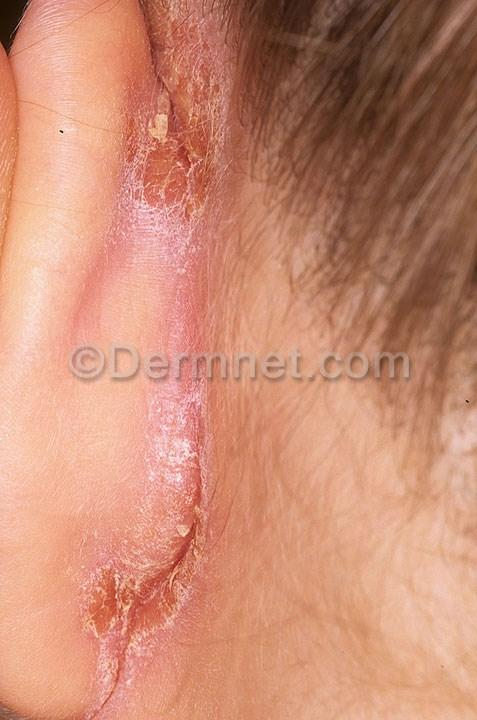Eczema: (52, 402, 282, 716), (77, 0, 254, 266)
